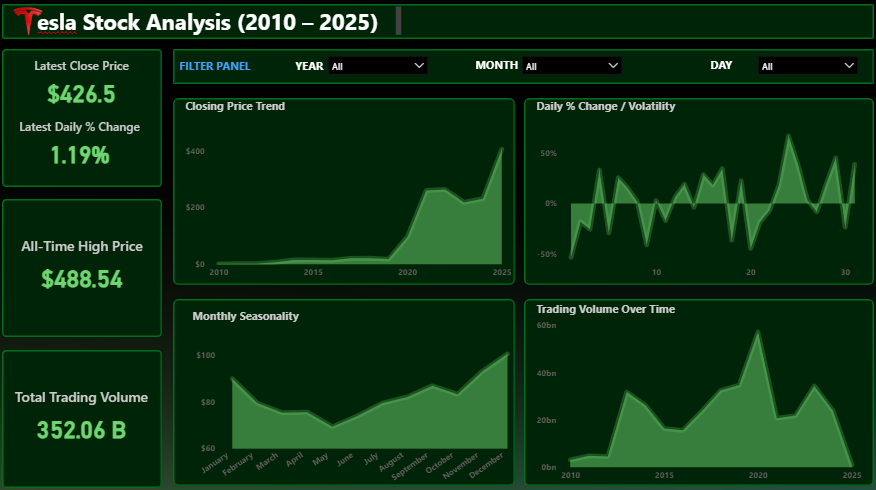

What the dashboard file says about the page in this screenshot:
{"tool":"powerbi","page":{"name":"Page 1","canvas":[1280,720],"ordinal":0},"visuals":[{"type":"shape","box":[10.1,10.1,1260.7,50.6],"z":0},{"type":"shape","box":[10.1,75.2,231.3,199.5],"z":1000},{"type":"textbox","box":[56.4,8.7,536.4,52],"z":2000},{"type":"card","title":"Latest Close Price","fields":{"Values":["tsla_2025.Latest Close Price"]},"box":[34.7,86.7,180.7,78.1],"z":3000},{"type":"shape","box":[10.1,292,231.3,199.5],"z":4000},{"type":"card","title":"Latest Daily % Change","fields":{"Values":["tsla_2025.Latest Daily % Change"]},"box":[28.9,174.9,186.5,78.1],"z":5000},{"type":"shape","box":[10.1,510.4,231.3,199.5],"z":6000},{"type":"card","title":"All-Time High Price","fields":{"Values":["tsla_2025.All Time High"]},"box":[28.9,345.5,193.7,91.1],"z":7000},{"type":"card","title":"Total Trading Volume","fields":{"Values":["tsla_2025.Total Volume"]},"box":[18.8,563.9,212.5,91.1],"z":8000},{"type":"shape","box":[257.3,75.2,1013.5,50.6],"z":9000},{"type":"shape","box":[257.3,146,494.5,270.4],"z":10000},{"type":"areaChart","title":"Closing Price Trend","fields":{"Y":["Avg(tsla_2025.Close)"],"Category":["tsla_2025.Date.Variation.Date Hierarchy.Year"]},"box":[270.4,146,481.4,270.4],"z":11000},{"type":"shape","box":[764.8,146,506,270.4],"z":12000},{"type":"shape","box":[257.3,436.6,494.5,270.4],"z":13000},{"type":"areaChart","title":"Daily % Change / Volatility","fields":{"Y":["tsla_2025.Avg Daily % Change (%)"],"Category":["tsla_2025.Date.Variation.Date Hierarchy.Day"]},"box":[777.8,146,480,270.4],"z":14000},{"type":"areaChart","title":"Monthly Seasonality","fields":{"Y":["Avg(tsla_2025.Close)"],"Category":["tsla_2025.Month Name"]},"box":[280.4,449.5,480,270.4],"z":15000},{"type":"shape","box":[764.8,436.6,506,270.4],"z":16000},{"type":"areaChart","title":"Trading Volume Over Time","fields":{"Category":["tsla_2025.Date.Variation.Date Hierarchy.Year"],"Y":["Sum(tsla_2025.Volume)"]},"box":[777.8,439.5,480,270.4],"z":17000},{"type":"textbox","box":[261.7,83.9,154.7,39],"z":18000},{"type":"slicer","fields":{"Values":["tsla_2025.Year"]},"box":[471.3,75.2,164.8,46.3],"z":19000},{"type":"textbox","box":[429.4,83.9,70.8,39],"z":20000},{"type":"slicer","fields":{"Values":["tsla_2025.Month Name"]},"box":[751.8,75.2,164.8,46.3],"z":21000},{"type":"textbox","box":[689.6,82.4,88.2,39],"z":22000},{"type":"slicer","fields":{"Values":["tsla_2025.Day"]},"box":[1093,75.2,164.8,46.3],"z":23000},{"type":"textbox","box":[1029.4,82.4,88.2,39],"z":24000},{"type":"image","box":[15.9,4.3,62.2,60.7],"z":25000}]}

Visuals, with their boxes in screenshot pixels (x1, y1, x2, y2), scaled from the page's 1280x720 canvas onto the 876x490 screenshot:
shape: (7,7,870,41)
shape: (7,51,165,187)
textbox: (39,6,406,41)
"Latest Close Price" card: (24,59,147,112)
shape: (7,199,165,334)
"Latest Daily % Change" card: (20,119,147,172)
shape: (7,347,165,483)
"All-Time High Price" card: (20,235,152,297)
"Total Trading Volume" card: (13,384,158,446)
shape: (176,51,870,86)
shape: (176,99,515,283)
"Closing Price Trend" areaChart: (185,99,515,283)
shape: (523,99,870,283)
shape: (176,297,515,481)
"Daily % Change / Volatility" areaChart: (532,99,861,283)
"Monthly Seasonality" areaChart: (192,306,520,489)
shape: (523,297,870,481)
"Trading Volume Over Time" areaChart: (532,299,861,483)
textbox: (179,57,285,84)
slicer - tsla_2025.Year: (323,51,435,83)
textbox: (294,57,342,84)
slicer - tsla_2025.Month Name: (515,51,627,83)
textbox: (472,56,532,83)
slicer - tsla_2025.Day: (748,51,861,83)
textbox: (704,56,765,83)
image: (11,3,53,44)
